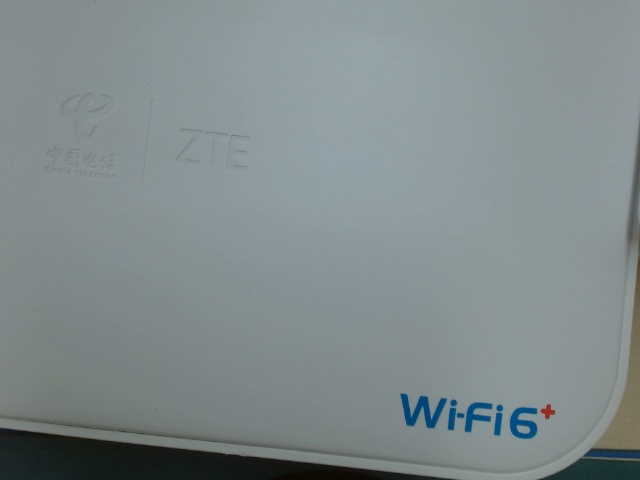AJ_ZTEWIFI6Plus: (384, 384, 562, 442)
